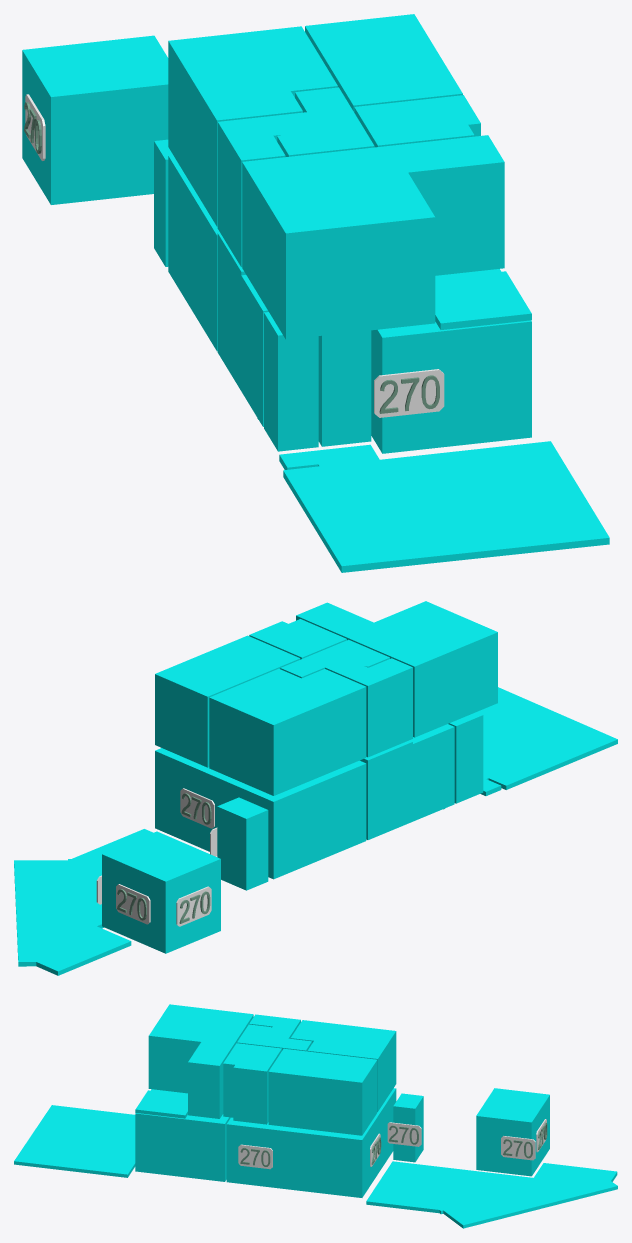
3 renders of one model, top to bottom at view 1: azimuth 30°, elevation 25°; view 2: azimuth 150°, elevation 25°; view 3: azimuth 270°, elevation 25°, orthographic. The views are drawn at different scales.
Parts seen in each view (by area): view 1: g_8, g_13, g_3, g_1, g_6, g_2, g_7, g_5, g_0, g_11, g_9, g_10 (+3 smaller); view 2: g_6, g_0, g_8, g_12, g_3, g_7, g_13, g_2, g_11, g_4, g_5, g_9 (+4 smaller); view 3: g_12, g_0, g_7, g_8, g_13, g_1, g_3, g_6, g_9, g_4, g_10, g_14 (+4 smaller).
Boxes of the visible parts, x1,y1,x2,y2 form: g_8: (242, 135, 504, 339); g_13: (279, 441, 609, 572); g_3: (22, 35, 168, 204); g_1: (371, 269, 531, 453); g_6: (168, 26, 337, 226); g_2: (217, 233, 371, 446); g_7: (305, 14, 462, 112); g_5: (264, 312, 318, 451); g_0: (168, 155, 219, 351); g_11: (217, 116, 285, 267); g_9: (354, 95, 480, 147); g_10: (271, 87, 374, 156); g_6: (209, 668, 366, 795); g_0: (155, 748, 366, 879); g_8: (296, 601, 497, 737); g_12: (14, 829, 152, 975); g_3: (102, 831, 220, 953); g_7: (155, 635, 300, 767); g_13: (477, 687, 617, 795); g_2: (360, 724, 454, 839); g_11: (342, 658, 412, 757); g_4: (217, 797, 268, 890); g_5: (448, 712, 483, 803); g_9: (249, 619, 346, 659); g_12: (366, 1161, 617, 1228); g_0: (226, 1088, 396, 1197); g_7: (268, 1048, 377, 1135); g_8: (148, 1004, 253, 1118); g_13: (14, 1105, 135, 1177); g_1: (135, 1089, 230, 1181); g_3: (476, 1088, 549, 1176); g_6: (290, 1020, 396, 1111); g_9: (223, 1043, 281, 1124); g_4: (393, 1093, 423, 1162); g_10: (237, 1024, 311, 1051); g_14: (135, 1090, 187, 1118).
Bounding box in the file's own units: 11.58 × 5.35 × 24.58.
